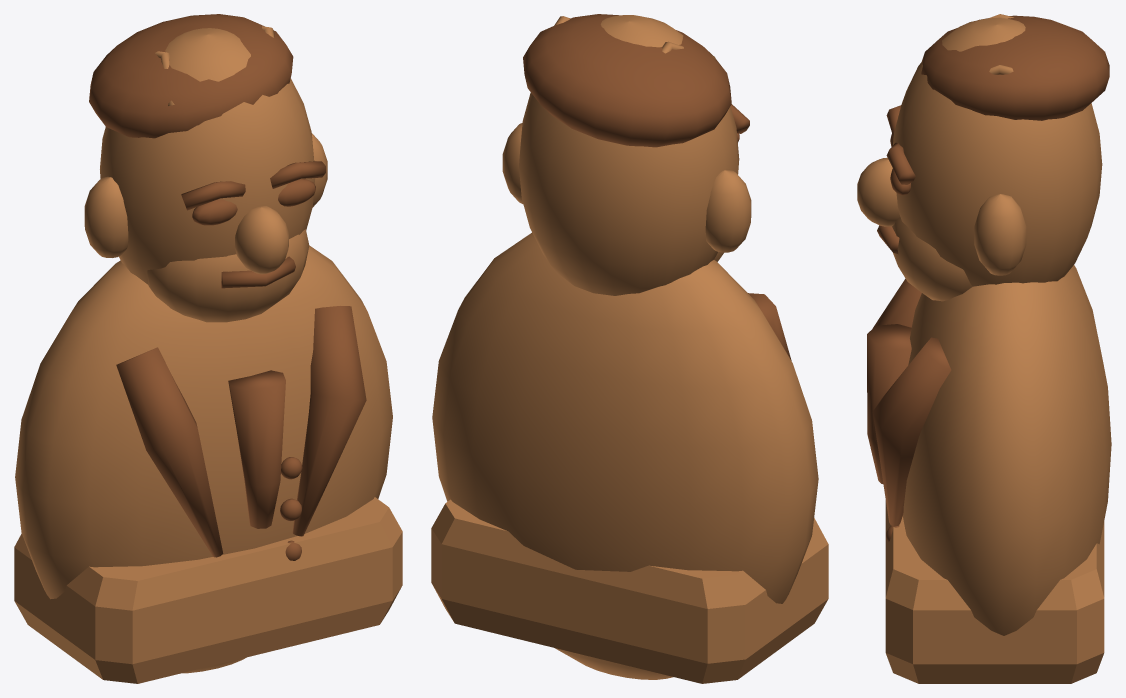
File: coach-9.glb
3 renders of one model, left to right at view 1: azimuth 30°, elevation 25°; view 2: azimuth 150°, elevation 25°; view 3: azimuth 270°, elevation 25°, orthographic. The views are drawn at different scales.
Visible parts, largest first — view 1: coach-9 · Cast bronze, coach-9 · Bronze patina, coach-9 · Cast bronze.001; view 2: coach-9 · Cast bronze, coach-9 · Cast bronze.001, coach-9 · Bronze patina; view 3: coach-9 · Cast bronze, coach-9 · Bronze patina, coach-9 · Cast bronze.001.
Part boxes in pixels (bbox=[...]): coach-9 · Cast bronze: bbox=[15, 26, 392, 673]; coach-9 · Bronze patina: bbox=[89, 14, 366, 560]; coach-9 · Cast bronze.001: bbox=[14, 497, 402, 683]; coach-9 · Cast bronze: bbox=[432, 15, 818, 679]; coach-9 · Cast bronze.001: bbox=[431, 499, 828, 683]; coach-9 · Bronze patina: bbox=[523, 14, 791, 360]; coach-9 · Cast bronze: bbox=[857, 14, 1111, 635]; coach-9 · Bronze patina: bbox=[867, 15, 1109, 542]; coach-9 · Cast bronze.001: bbox=[885, 500, 1104, 683].
Size of the model in its own units: 1.18 by 1.97 by 0.7085.
